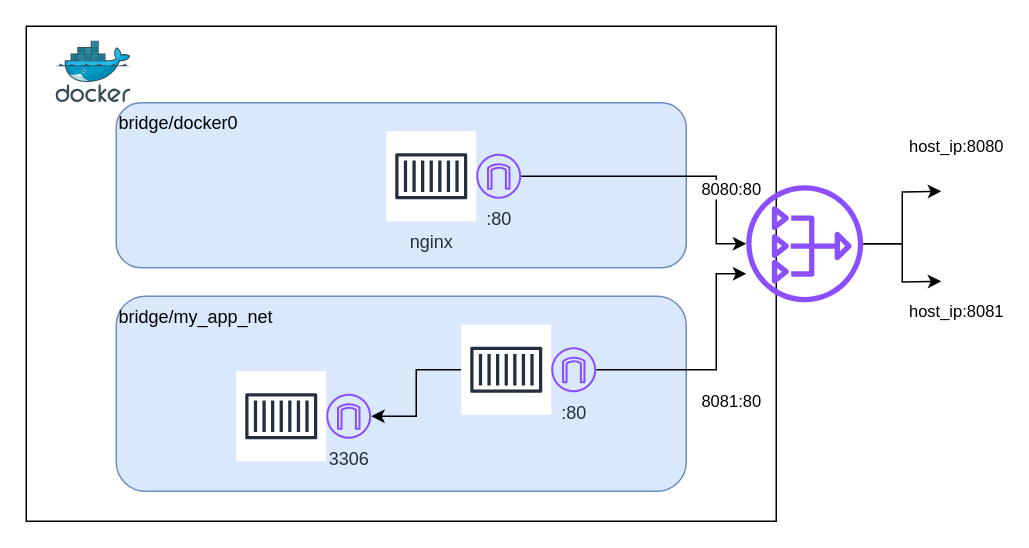
This 1029x548 diagram has some shape labels left out. The shapes that lost their labels are listed below. From the top down, each one's centre as x and y in pixels, then its label:
At (x=804, y=243): "host NAT".
At (x=505, y=369): "httpd".
At (x=280, y=415): "mysql".
